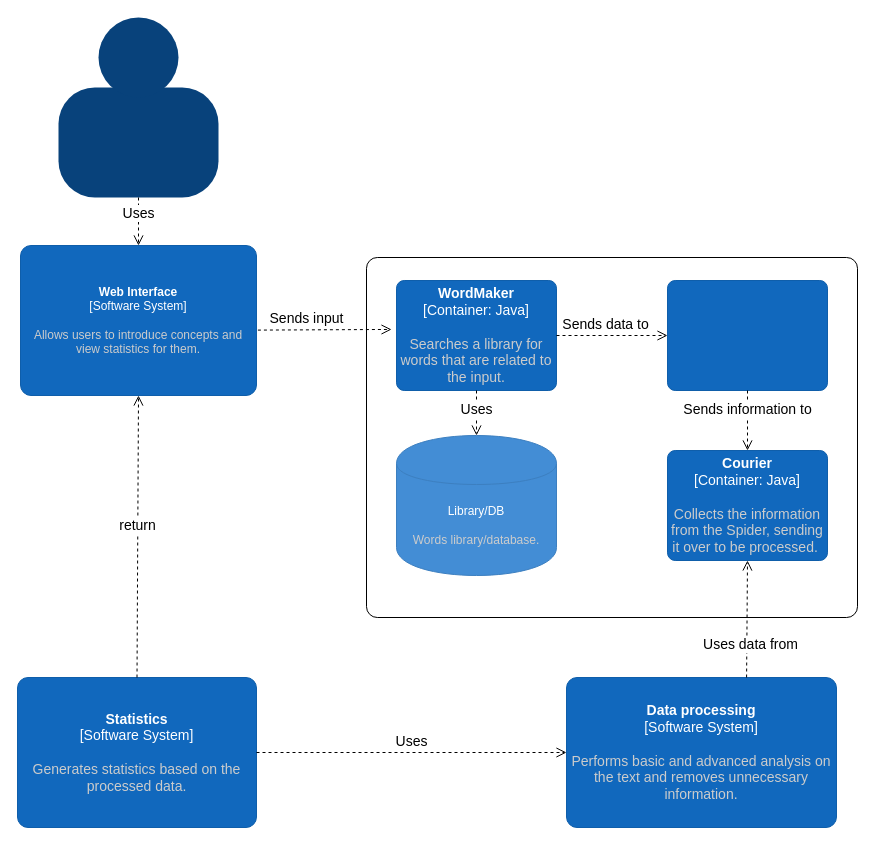
This 875x845 diagram has some shape labels left out. The box of each missing label's shape, as (x1, y1, x2, y2) in pixels:
Crawler [Software System]: (366, 256, 858, 618)
Spider [Container: Java] Searches webpages for appropriate information.: (666, 280, 828, 390)
User [Person] Person interested in comparing concepts.: (58, 86, 218, 198)
